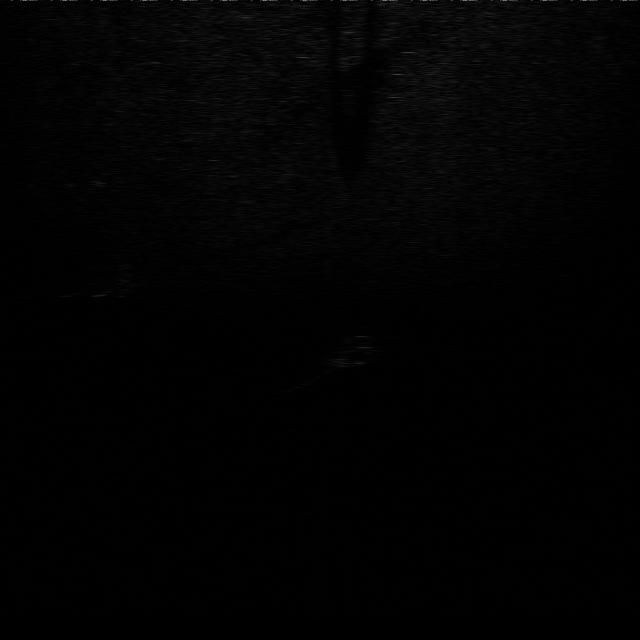tyre: (318, 323, 388, 375)
